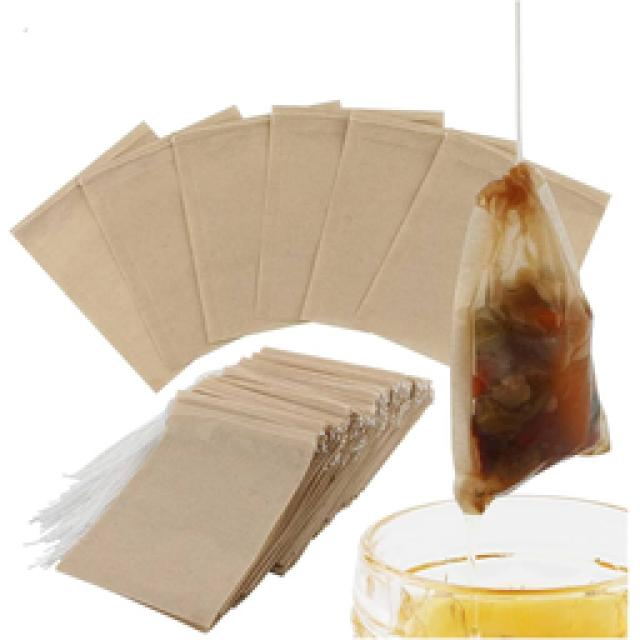tea-bags: (12, 102, 608, 510), (22, 348, 432, 630)
